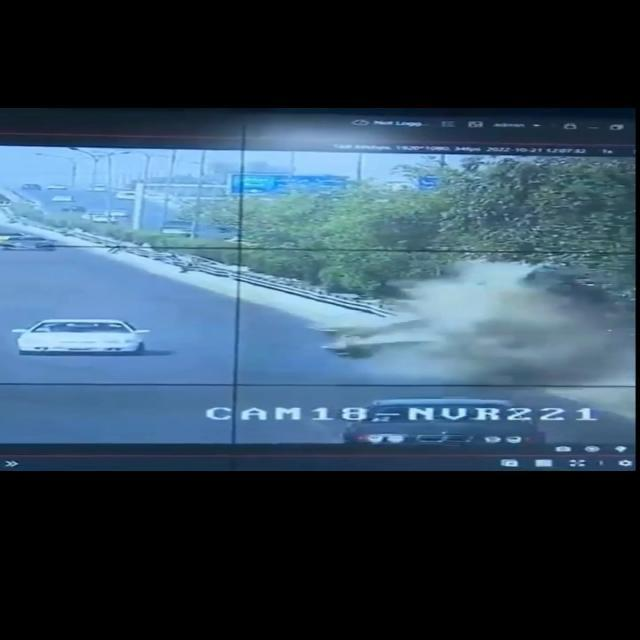accident: (350, 263, 640, 398)
